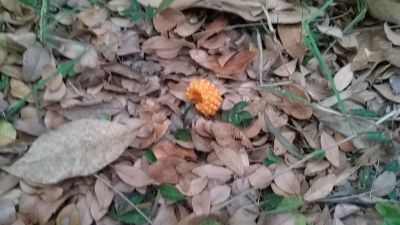eggs: (186, 79, 223, 117)
